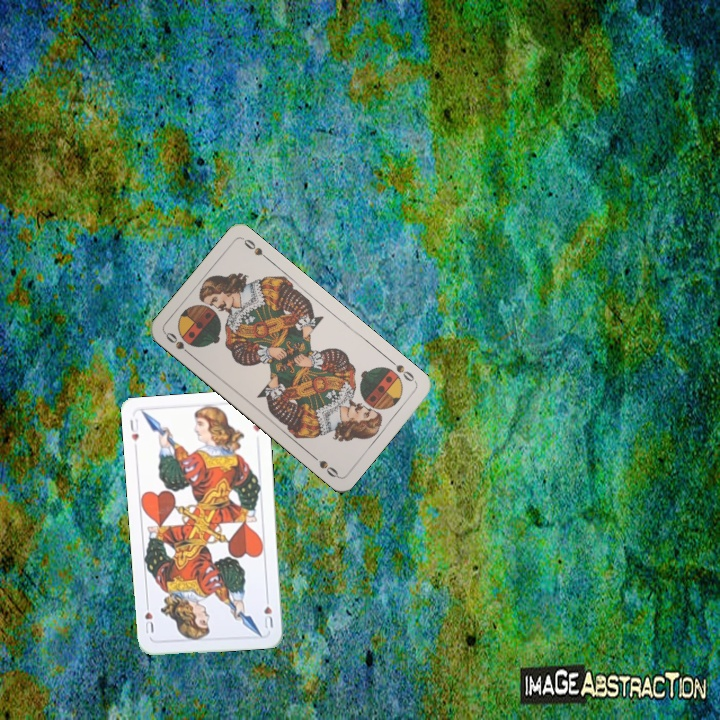HU: (260, 592, 276, 631), (126, 415, 141, 444)
SO: (161, 328, 195, 359), (385, 355, 419, 385)
